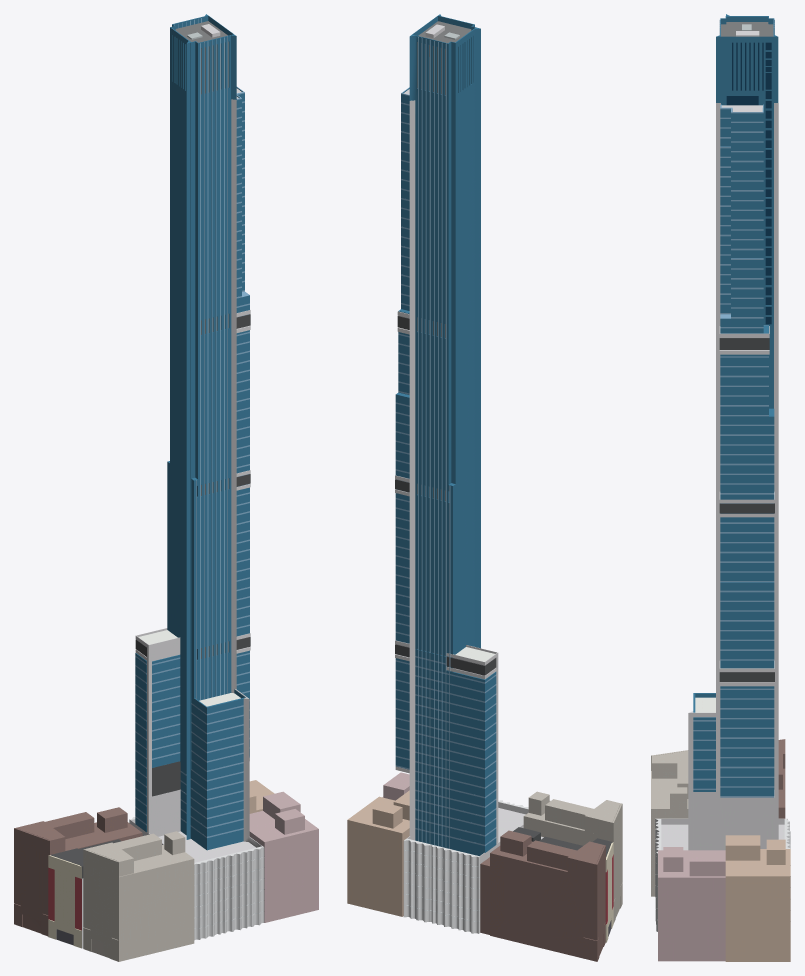
The model's file is central_park_tower.glb.
3 renders of one model, left to right at view 1: azimuth 30°, elevation 25°; view 2: azimuth 150°, elevation 25°; view 3: azimuth 270°, elevation 25°, orthographic. The views are drawn at different scales.
Visible parts, largest first — view 1: Object_12, Object_2; view 2: Object_12, Object_2; view 3: Object_2, Object_12.
Part boxes in pixels (x1,y1,x2,y2): Object_12: (135,14,249,850); Object_2: (14,18,318,961); Object_12: (395,14,496,855); Object_2: (347,21,622,961); Object_2: (651,19,790,961); Object_12: (693,14,778,795).
Size of the model in its own units: 54 by 183 by 25.81.
Materials: 2 (2 with a texture image).
